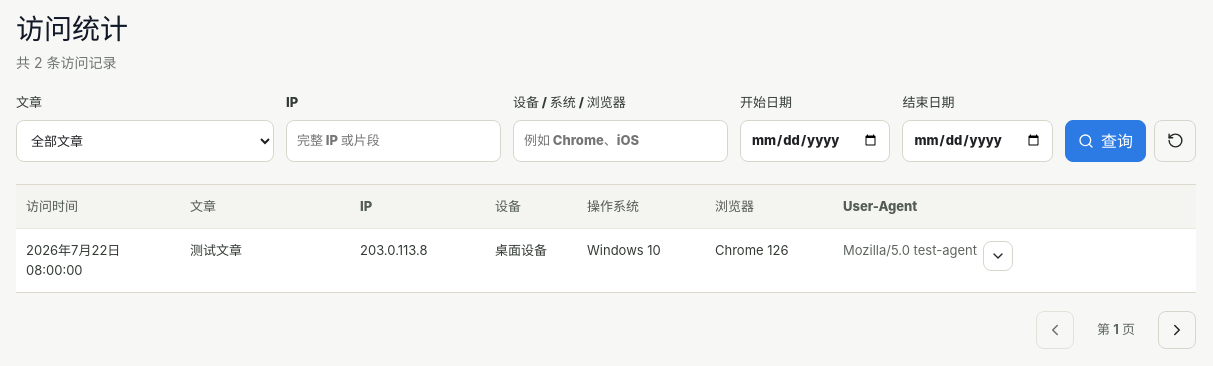
Test: StatisticsPage request lifecycle › loads page two and disables the next control at the end
Expected: the text "第 1 页" is shown, [1097,321,1135,337]
Expected: the button named "上一页" is disabled, [1036,311,1074,349]
Click the button named "下一页". click: (1177,330)
box: [1158,311,1196,349]
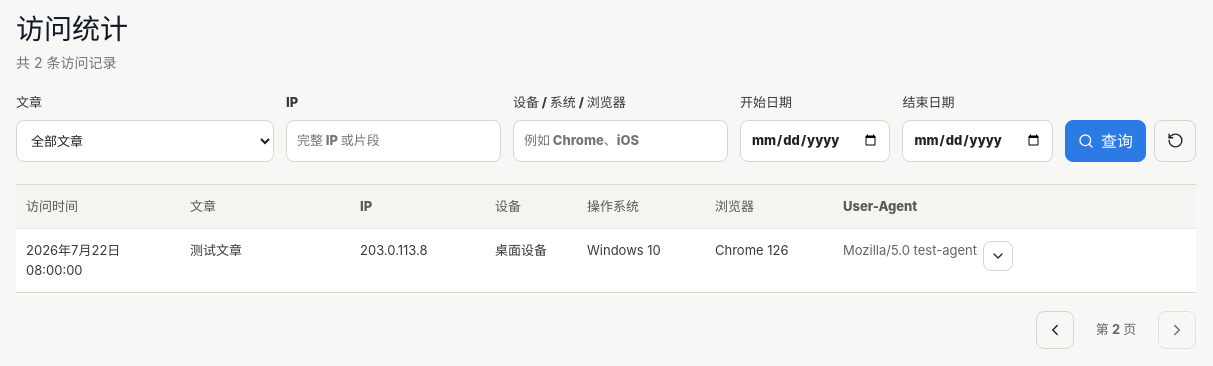
Expected: the button named "上一页" is enabled, [1036,311,1074,349]
Now the text "第 2 页" is shown, box [1096,321,1136,337]
